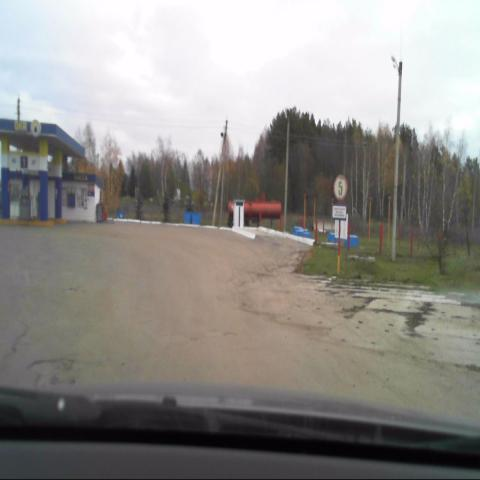3_24: (334, 174, 346, 198)
